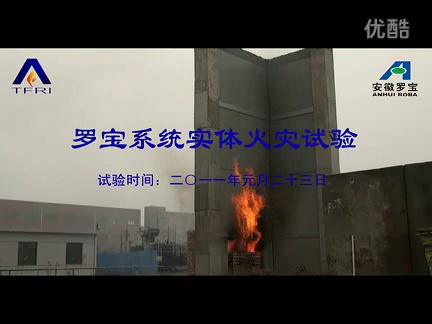fire: (219, 153, 272, 260)
